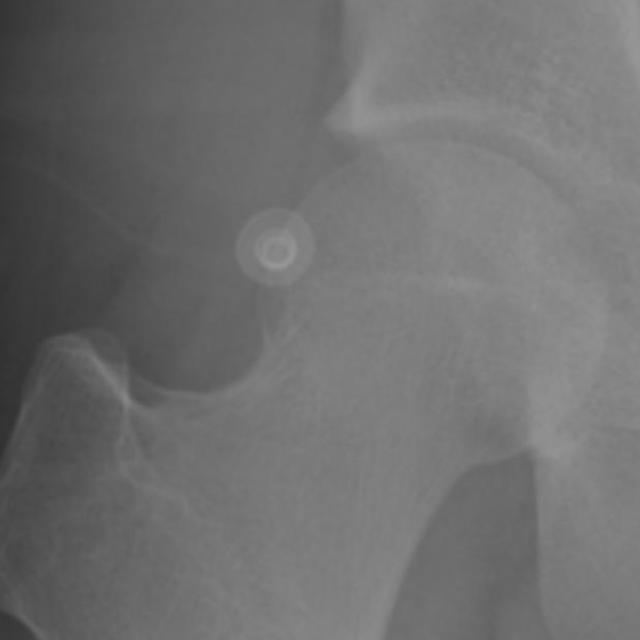Fitted_femural_head: (350, 141, 432, 350)
